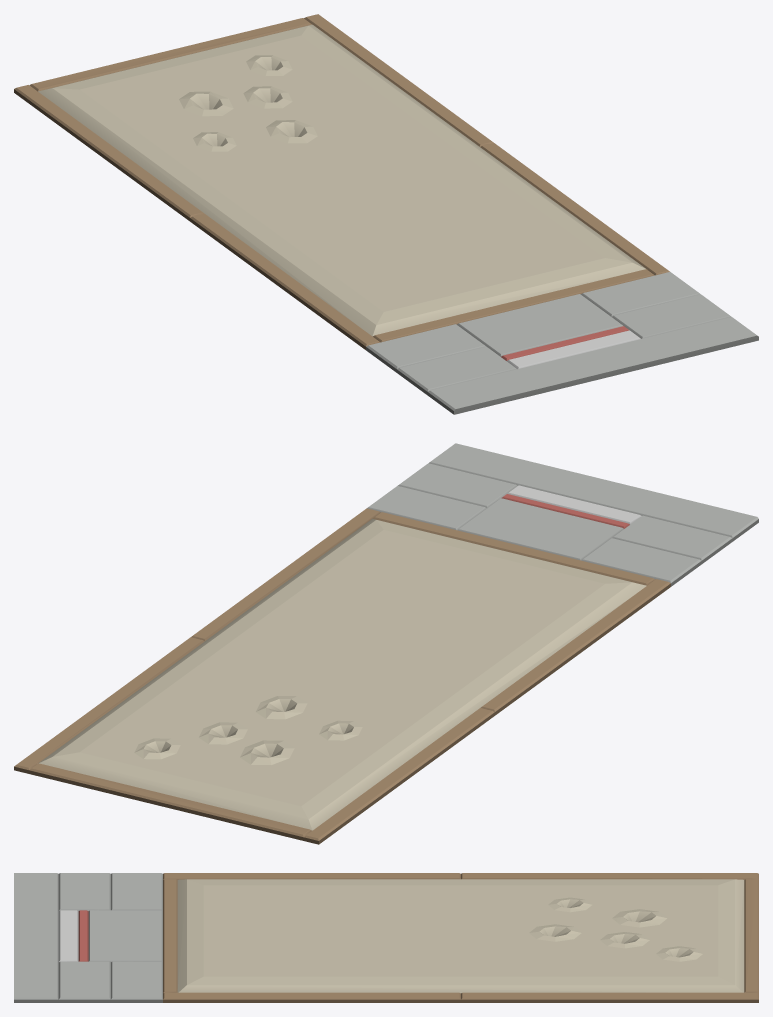
Rendered from longjump.glb.
3 renders of one model, top to bottom at view 1: azimuth 30°, elevation 25°; view 2: azimuth 150°, elevation 25°; view 3: azimuth 270°, elevation 25°, orthographic. The views are drawn at different scales.
Visible parts, largest first — view 1: longjump; view 2: longjump; view 3: longjump.
Boxes of the visible parts, x1,y1,x2,y2 form: longjump: (14, 14, 758, 414); longjump: (14, 443, 758, 844); longjump: (14, 873, 758, 1002).
Bounding box in the file's own units: 3.9 × 0.1664 × 9.75.
